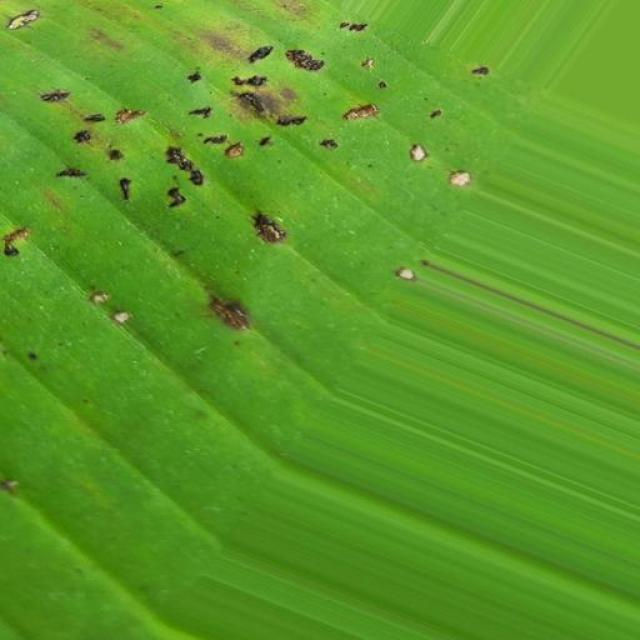Black_rot: (3, 9, 583, 420)
